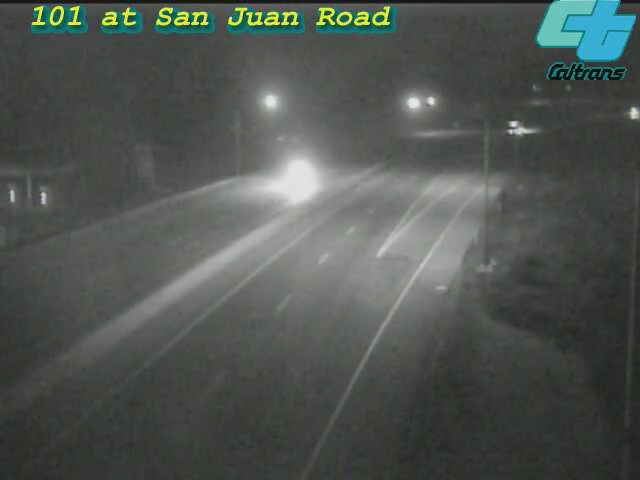vehicle: (261, 132, 341, 212), (499, 100, 549, 150)
